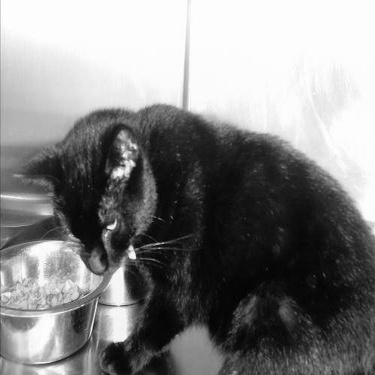cat: (38, 93, 365, 374)
